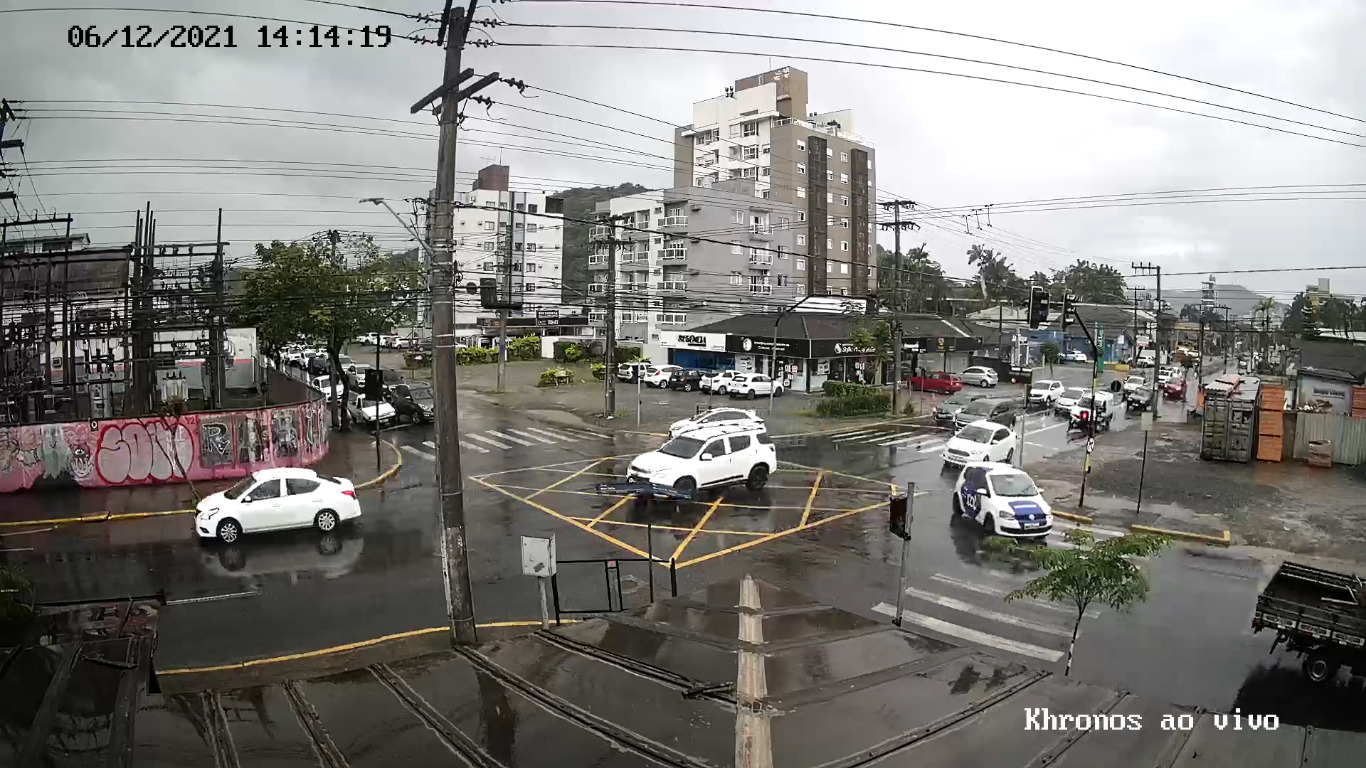car: (193, 466, 361, 545), (627, 424, 777, 506), (950, 462, 1054, 541)
